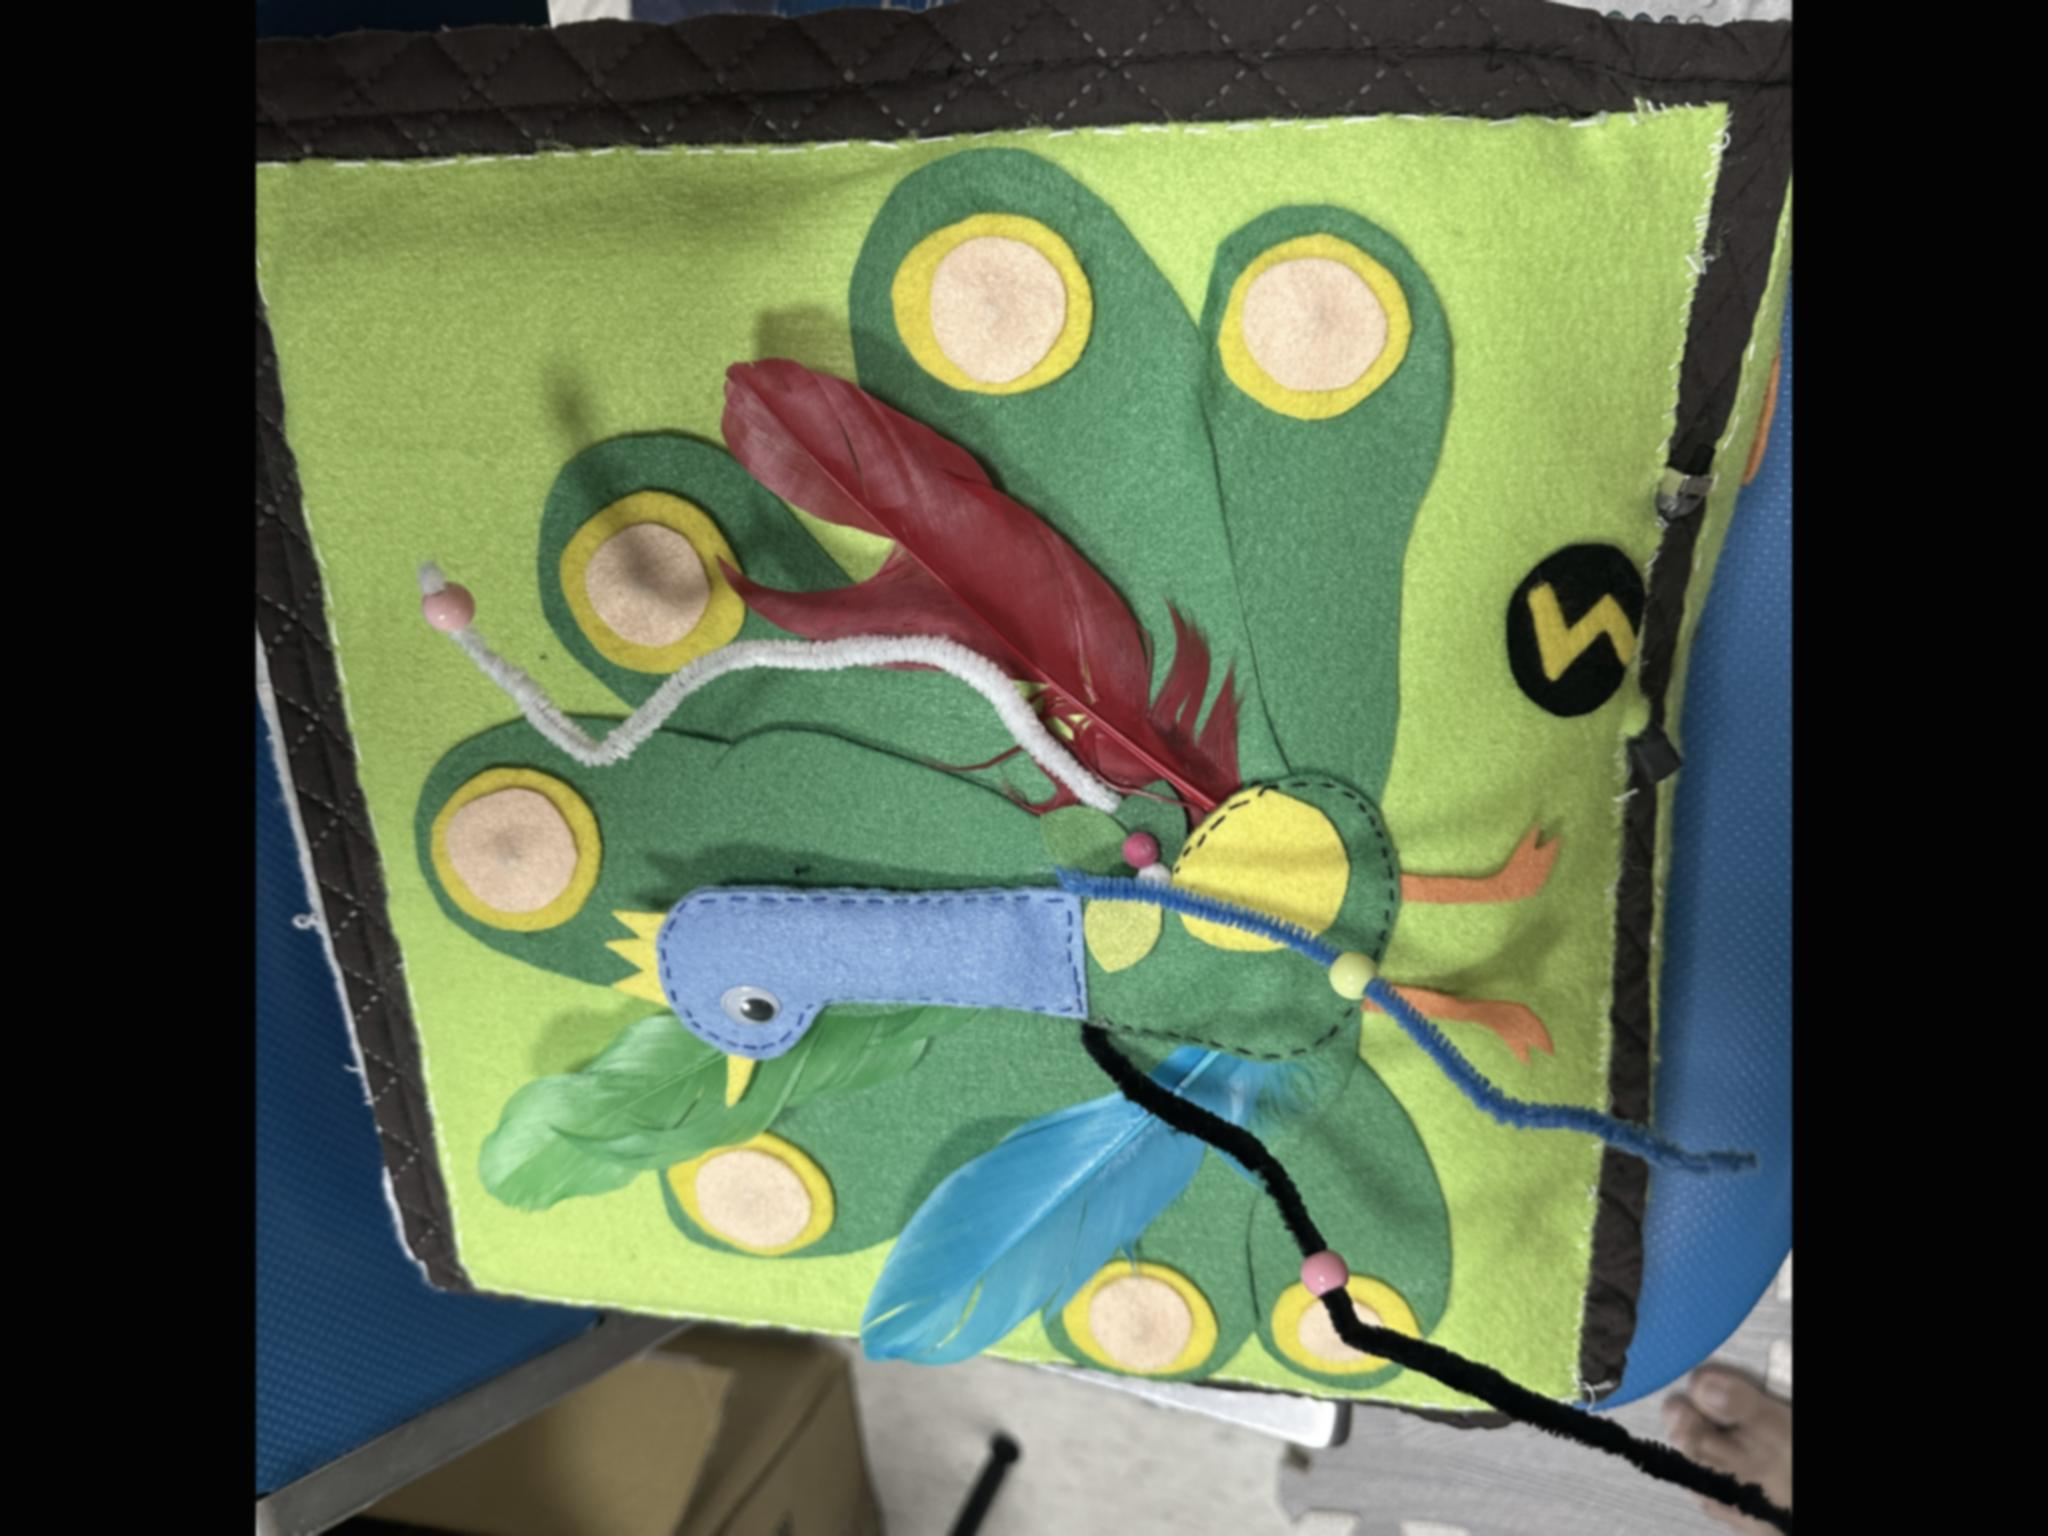bead: (409, 567, 495, 639), (1284, 1242, 1374, 1306), (1314, 942, 1398, 1010)
